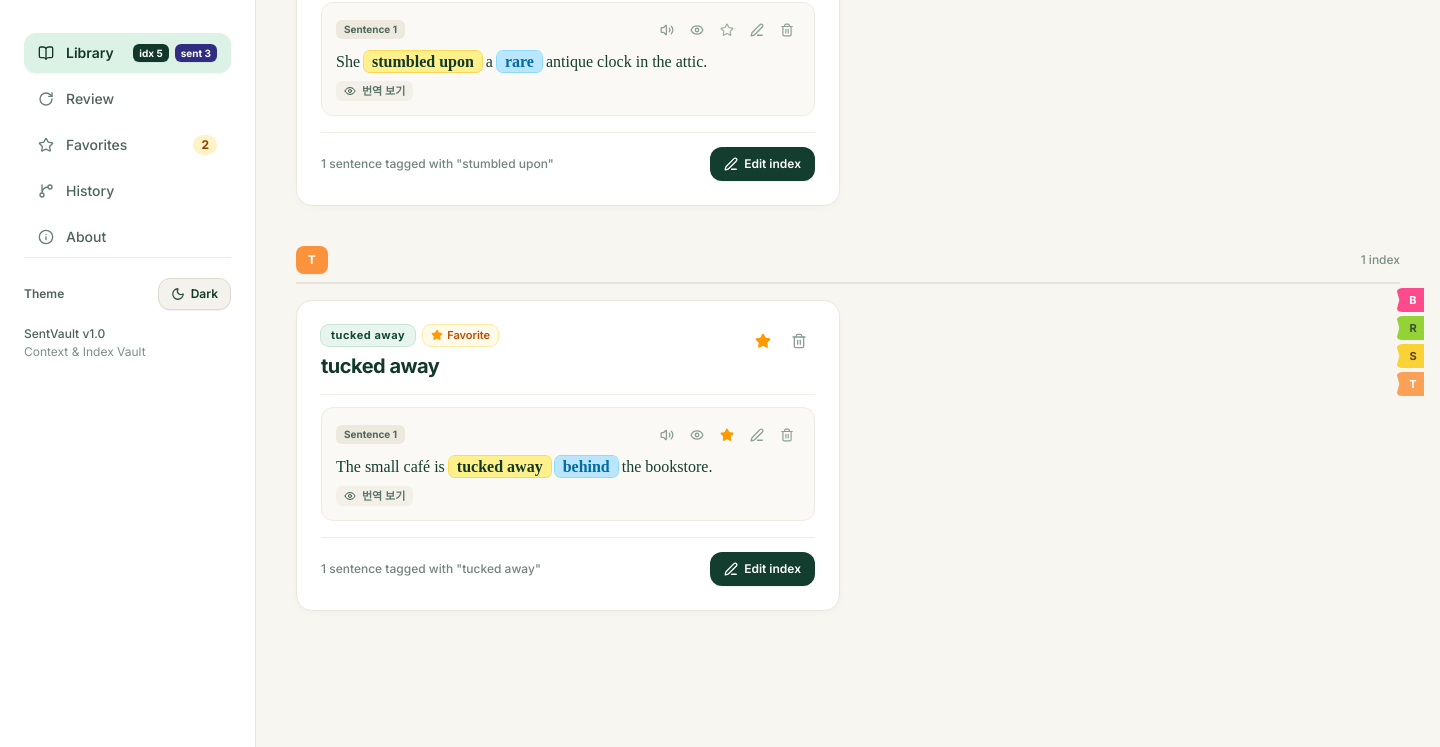
Test: Sentence Note - Multi-Index Management › switches active index when clicking an item in the right sidebar
(page scrolled)
Click the 2nd button "Edit index".
click(763, 569)  # box [710,552,815,586]
(page scrolled)
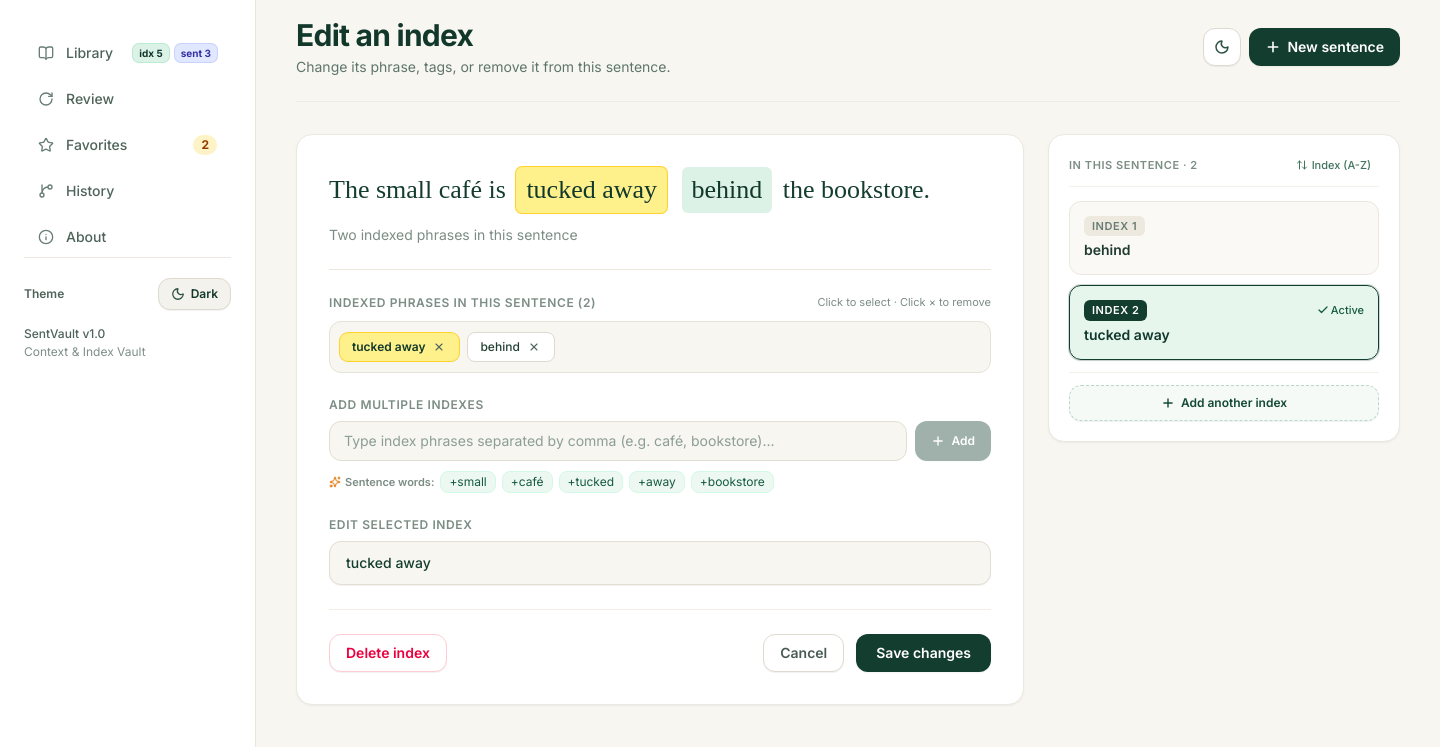
Click the button "Index 1 behind".
click(1115, 226)  # box [1069,200,1379,275]
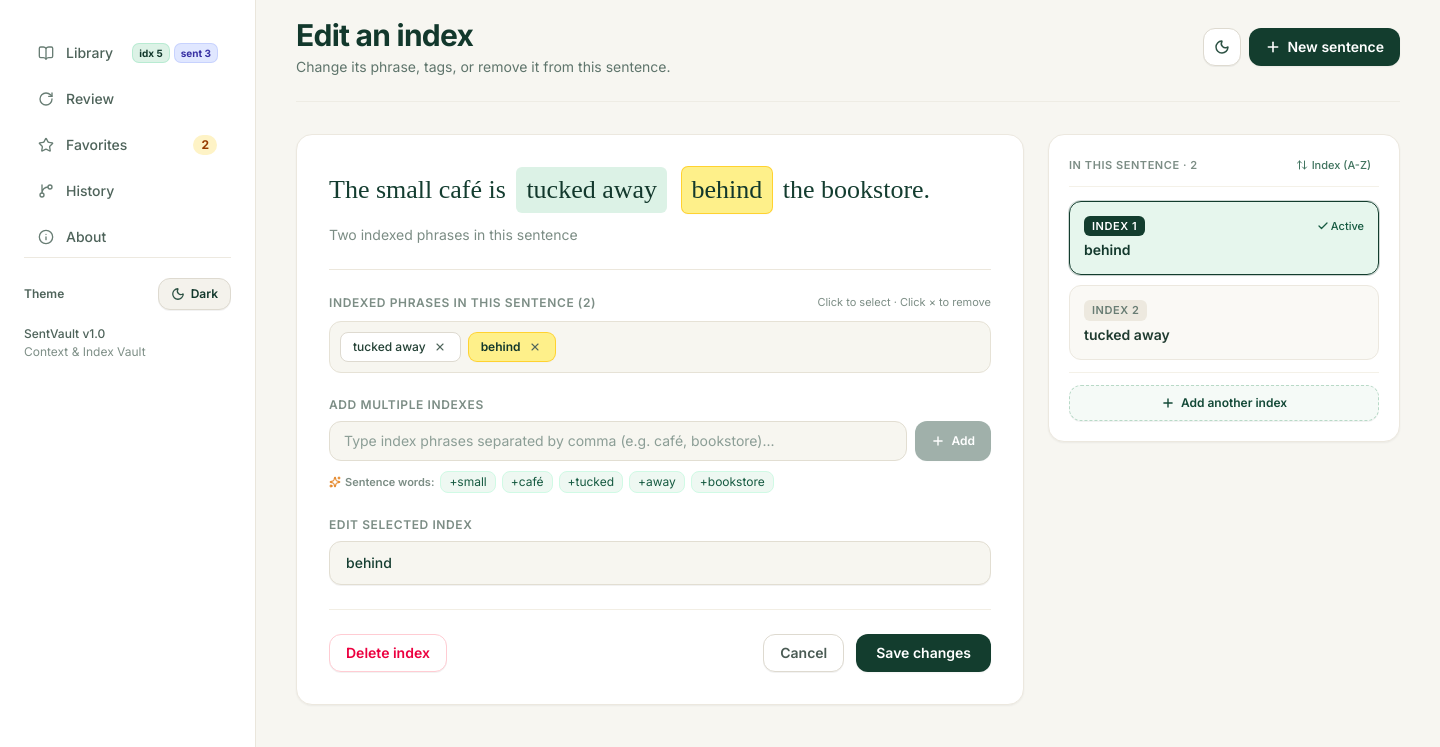
Result: the field labelled "Edit Selected Index" holds "behind" at [329,541,991,585]
